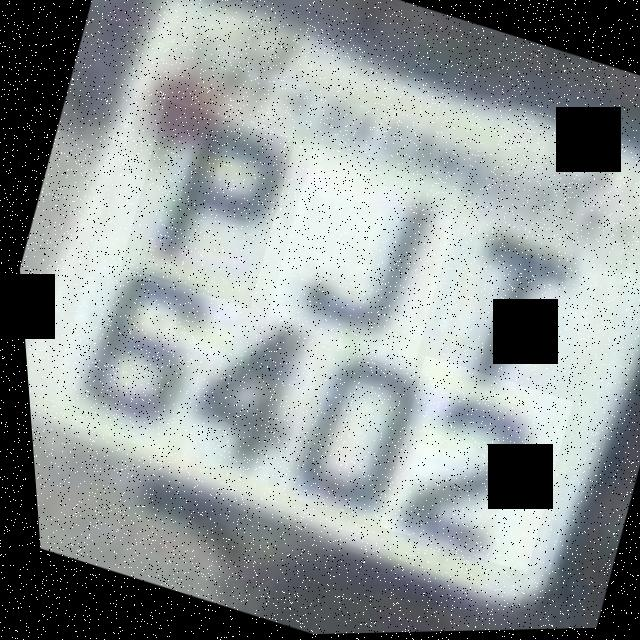0: (256, 314, 467, 542)
2: (361, 354, 575, 578)
4: (143, 281, 353, 510)
6: (31, 237, 252, 468)
J: (249, 141, 469, 376)
P: (106, 98, 302, 311)
T: (398, 189, 596, 409)
